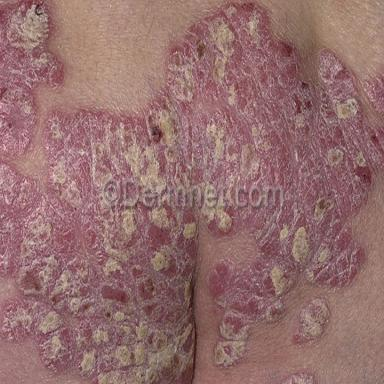Psoriasis: (0, 5, 384, 382), (0, 0, 64, 156), (364, 74, 384, 120)
